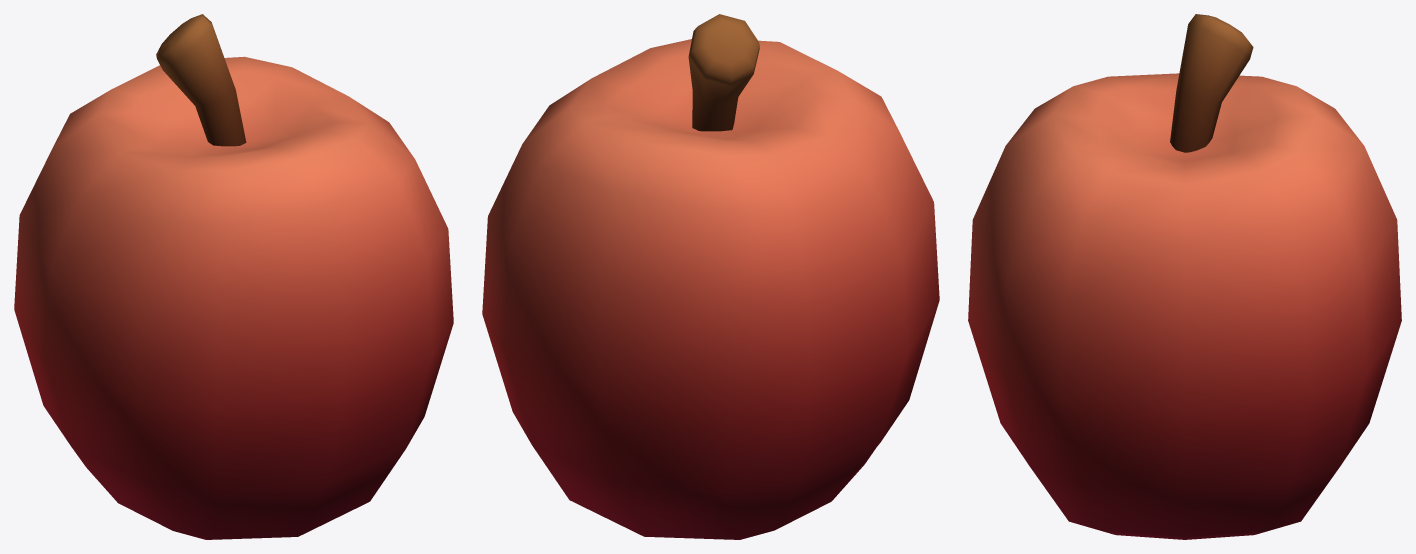
File: Apple_02.glb
3 views of the same model, side by side, from view 1: azimuth 30°, elevation 25°; view 2: azimuth 150°, elevation 25°; view 3: azimuth 270°, elevation 25° (orthographic). The views are drawn at different scales.
Visible parts, largest first — view 1: Apple_02; view 2: Apple_02; view 3: Apple_02.
Boxes of the visible parts, box(x1,y1,x2,y2) form: Apple_02: box(14, 14, 453, 539); Apple_02: box(482, 14, 939, 539); Apple_02: box(968, 14, 1401, 539).
Bounding box in the file's own units: 0.2266 × 0.2808 × 0.2252.
Materials: 1 (1 with a texture image).
